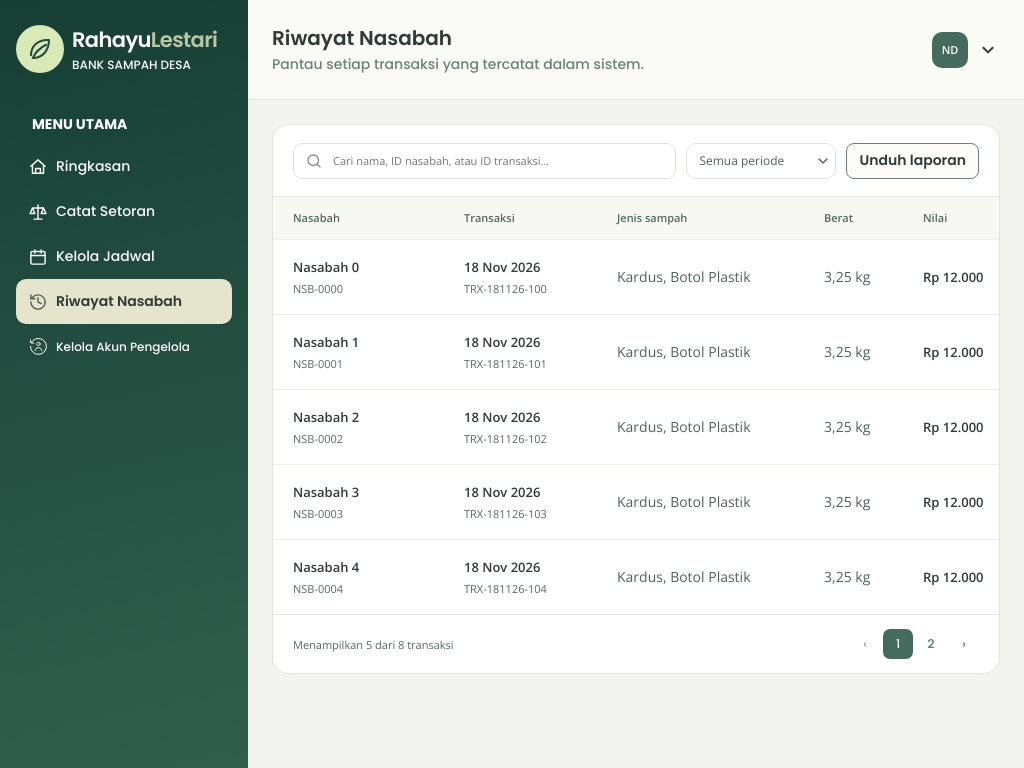
Test case: Riwayat Nasabah › paginates and resets page on period change
Later steps or results of the test are not shown.
Click the button named "Halaman berikutnya".
click(964, 644)  # box left=949, top=629, right=979, bottom=659
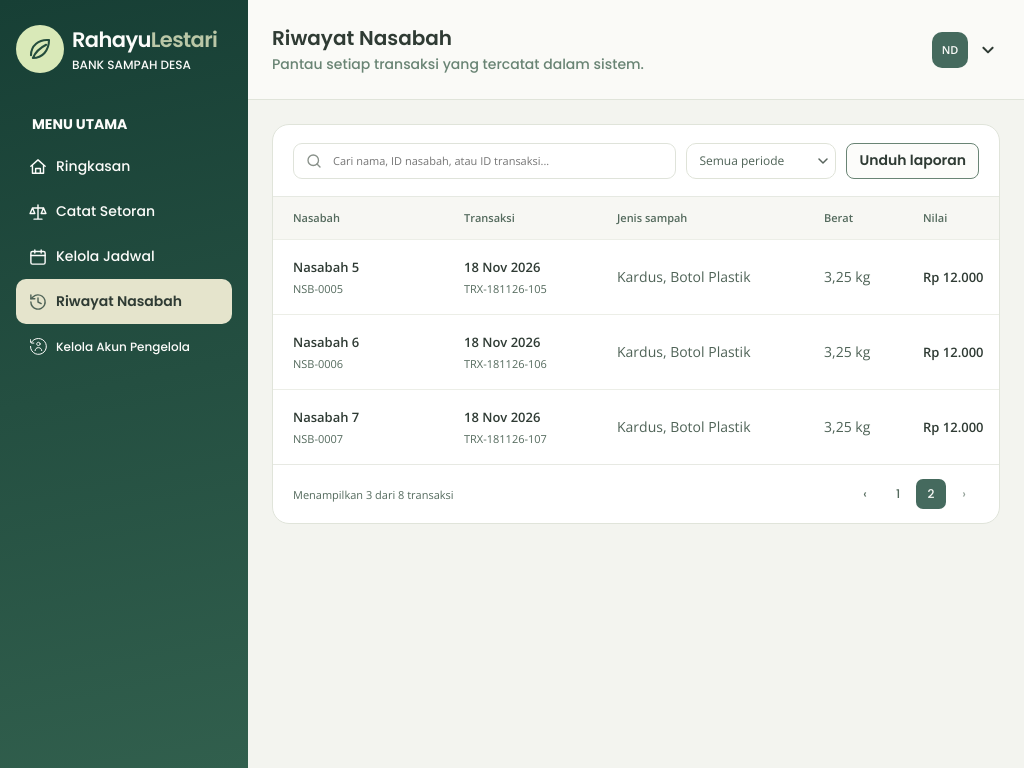
Now the text "Nasabah 7" is shown, box left=293, top=408, right=359, bottom=426
